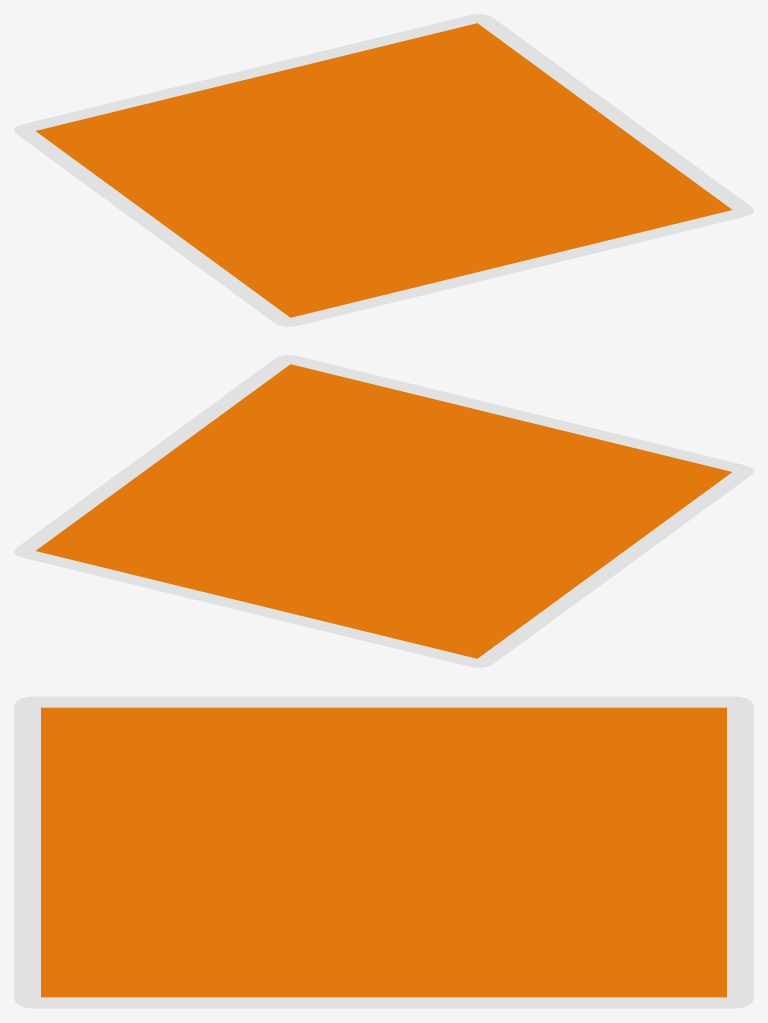
File: button.glb
3 renders of one model, top to bottom at view 1: azimuth 30°, elevation 25°; view 2: azimuth 150°, elevation 25°; view 3: azimuth 270°, elevation 25°, orthographic. The views are drawn at different scales.
Visible parts, largest first — view 1: Plane.001; view 2: Plane.001; view 3: Plane.001.
Boxes of the visible parts, box(x1,y1,x2,y2) form: Plane.001: box(14, 14, 753, 326); Plane.001: box(14, 355, 753, 667); Plane.001: box(14, 696, 753, 1008).
Size of the model in its own units: 1.99 by 0 by 1.99.
